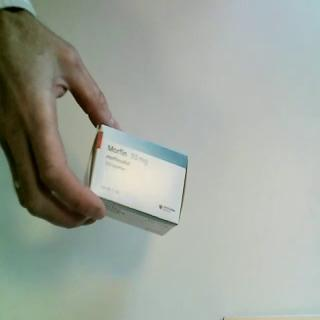morfin10mg: (82, 123, 190, 238)
